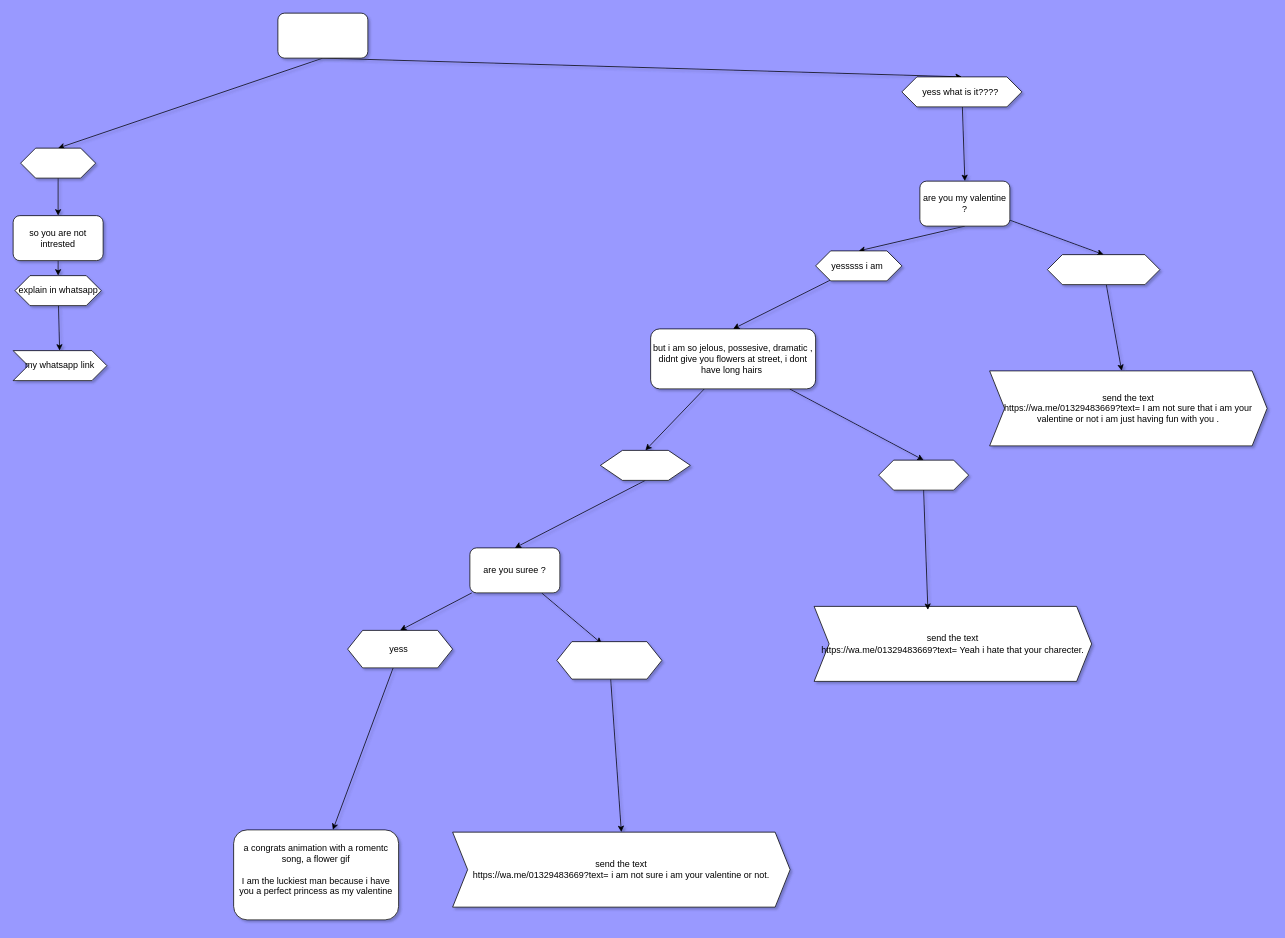
Some shapes in this 1285 by 938 pixel diagram are drawn without their labels. Here are the shapes that lost their labels. From the top down, the box of each, then its label:
(277, 12, 368, 58): card Hello miss i have a question for you
(20, 147, 96, 178): okay
(1047, 254, 1160, 285): i am not sure maybe.
(600, 450, 690, 480): still you ar mine
(878, 459, 969, 490): yeah i dont like it
(556, 641, 662, 679): maybe i am not sure
